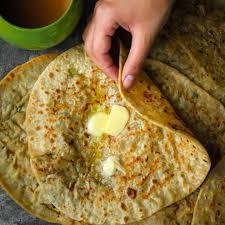paratha: (7, 58, 225, 225)
